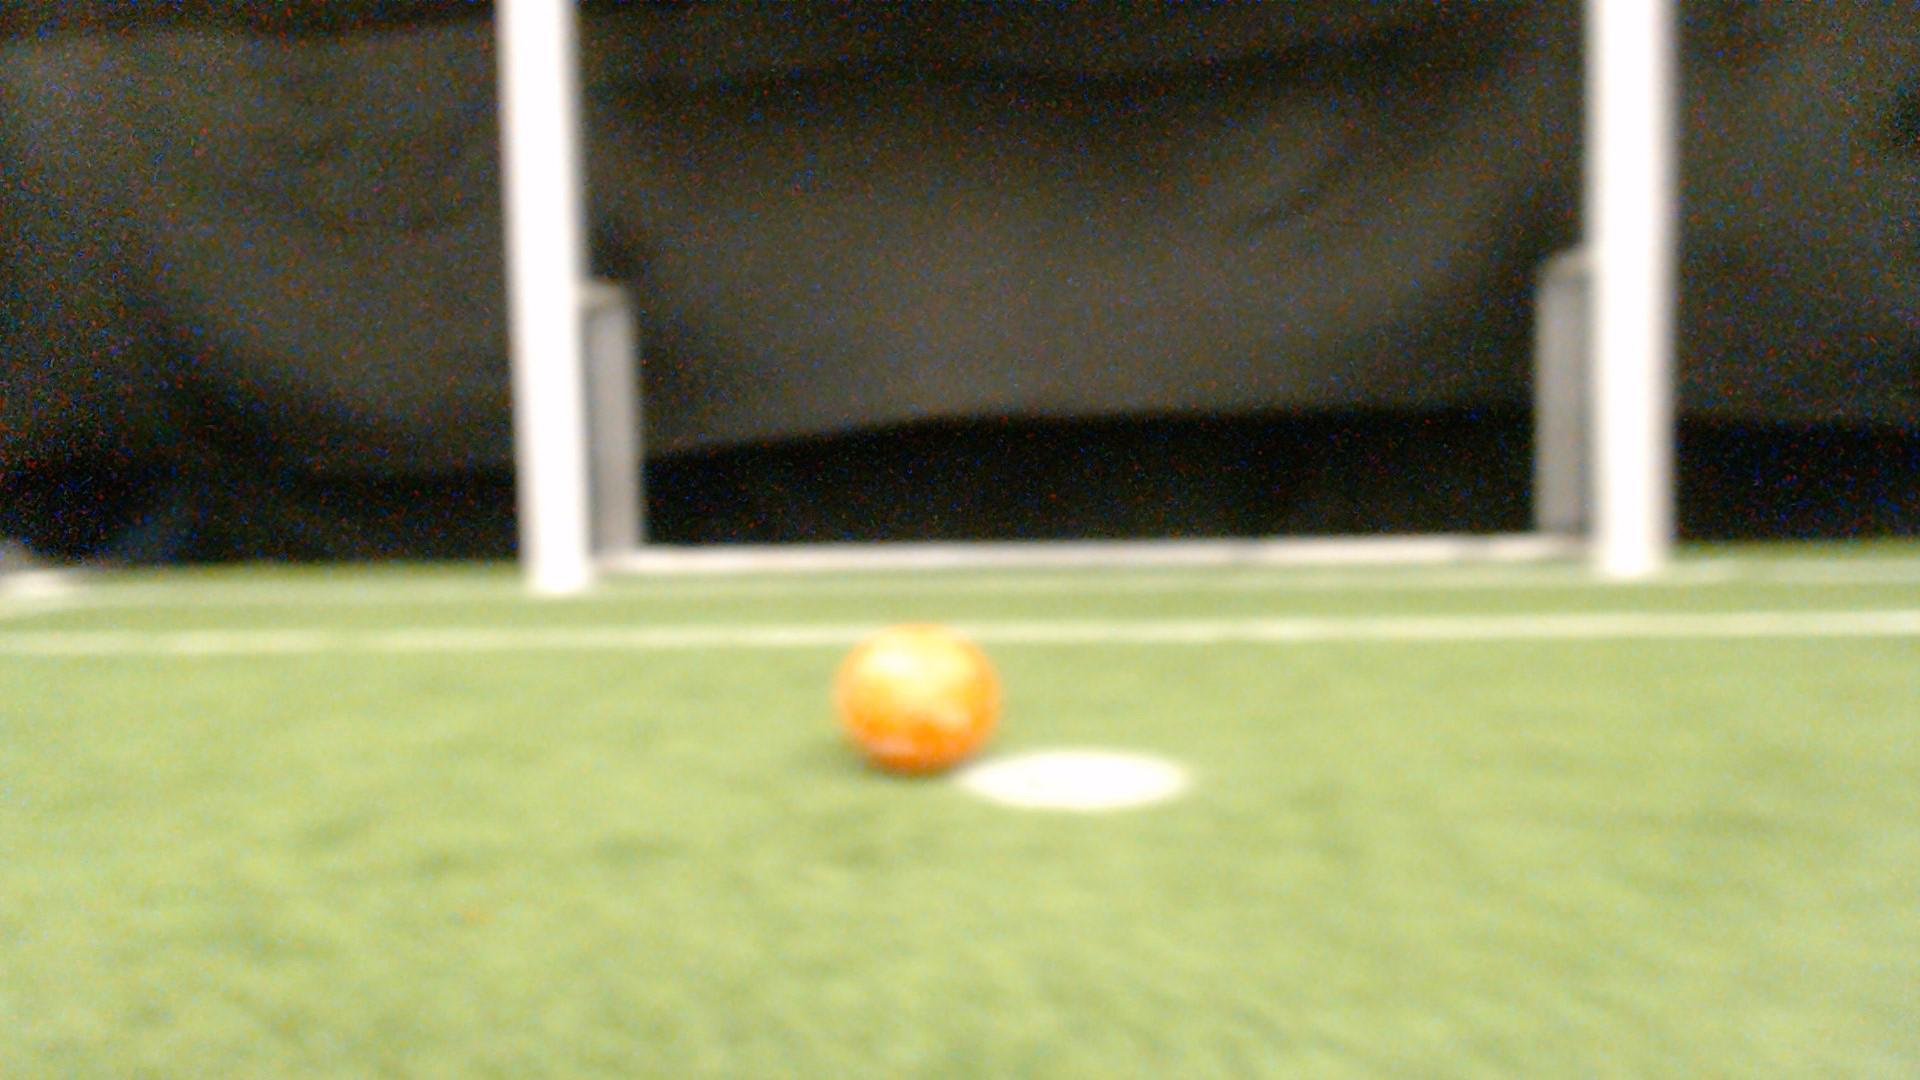bola: (808, 616, 1018, 789)
